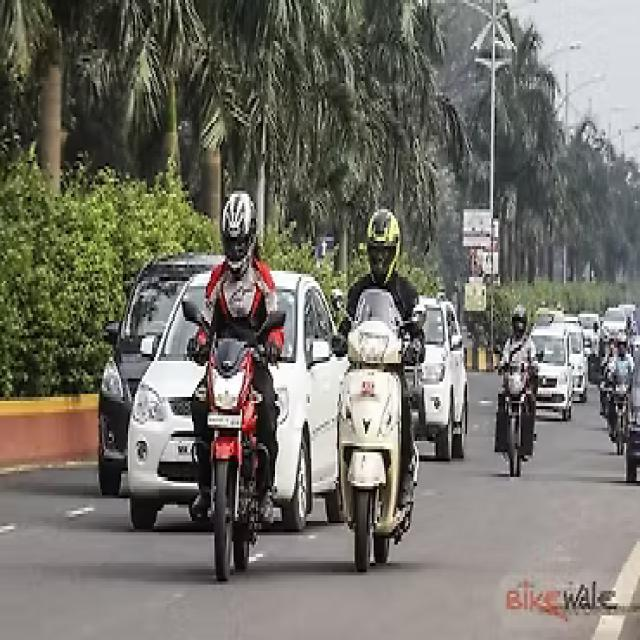Vehicles: (111, 256, 340, 530), (321, 321, 411, 569), (201, 310, 264, 589), (516, 308, 582, 438), (502, 366, 547, 483), (603, 368, 637, 462)
